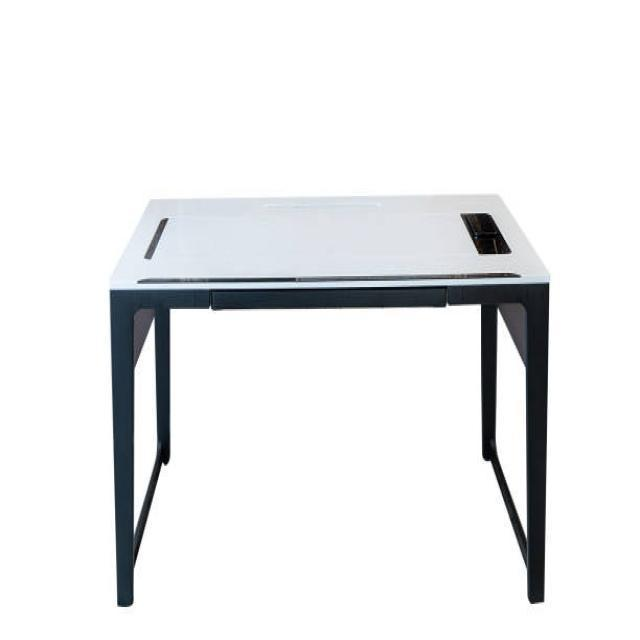table: (108, 191, 552, 607)
